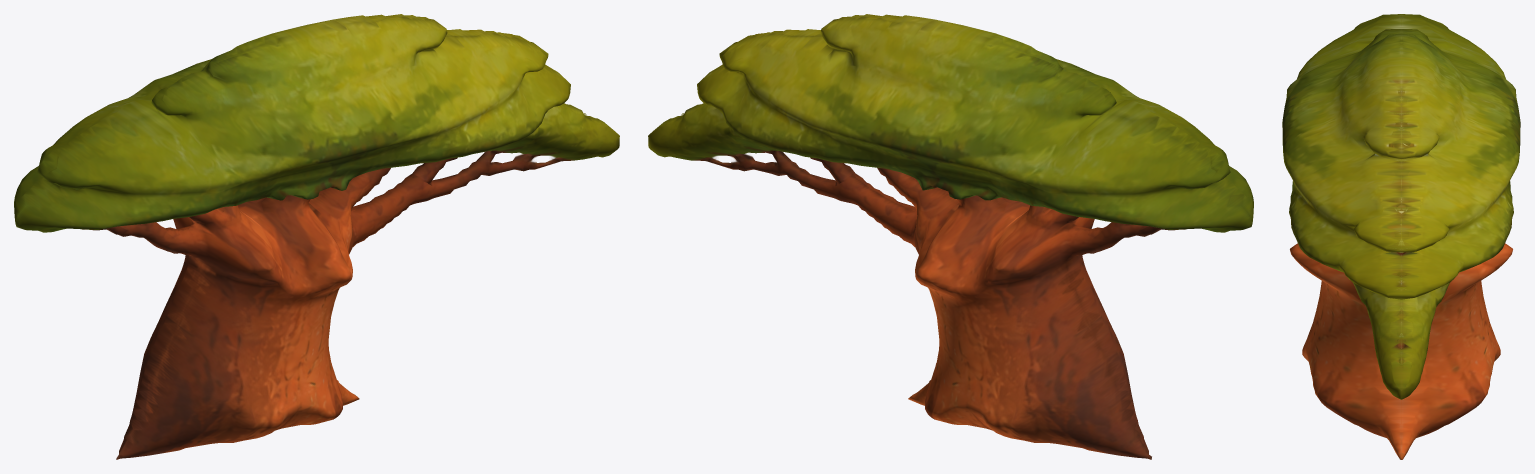
File: 02_acacia_trees_r00_c00.glb
3 views of the same model, side by side, from view 1: azimuth 30°, elevation 25°; view 2: azimuth 150°, elevation 25°; view 3: azimuth 270°, elevation 25° (orthographic). The views are drawn at different scales.
Visible parts, largest first — view 1: 02_acacia_trees_r00_c00; view 2: 02_acacia_trees_r00_c00; view 3: 02_acacia_trees_r00_c00.
Boxes of the visible parts, x1,y1,x2,y2 form: 02_acacia_trees_r00_c00: (14, 14, 619, 459); 02_acacia_trees_r00_c00: (648, 14, 1253, 459); 02_acacia_trees_r00_c00: (1282, 14, 1520, 459).
Bounding box in the file's own units: 6.27 × 3.79 × 2.2.
1 material, 1 textured.
